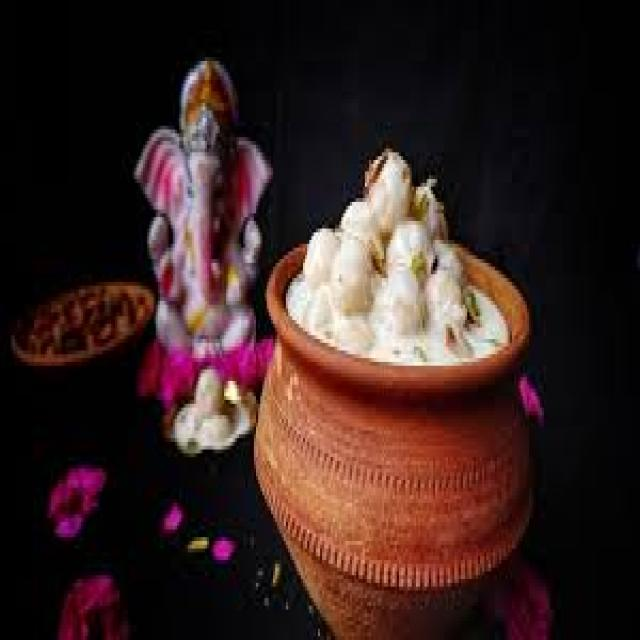paal kolukattai: (285, 146, 508, 370)
